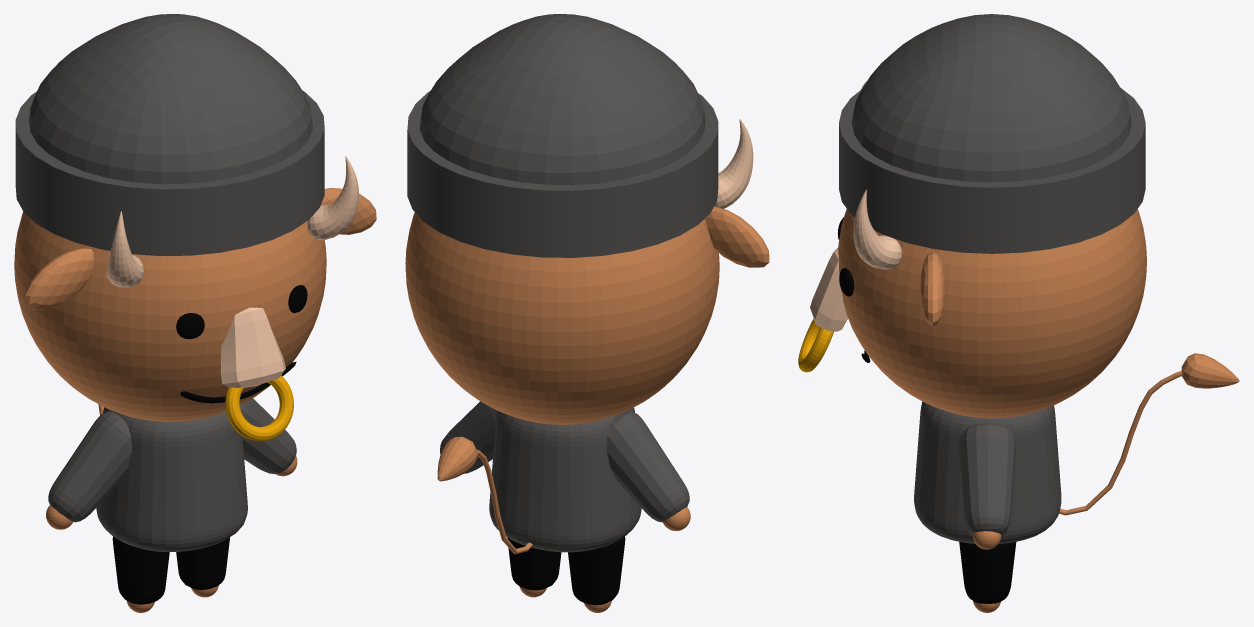
File: 하민몬.glb
3 renders of one model, left to right at view 1: azimuth 30°, elevation 25°; view 2: azimuth 150°, elevation 25°; view 3: azimuth 270°, elevation 25°, orthographic.
Visible parts, largest first — view 1: 빌7/하민몬; view 2: 빌7/하민몬; view 3: 빌7/하민몬.
Boxes of the visible parts, x1,y1,x2,y2 form: 빌7/하민몬: (14, 14, 376, 612); 빌7/하민몬: (405, 14, 769, 612); 빌7/하민몬: (798, 14, 1239, 612).
Bounding box in the file's own units: 1.59 × 2.5 × 1.75.
